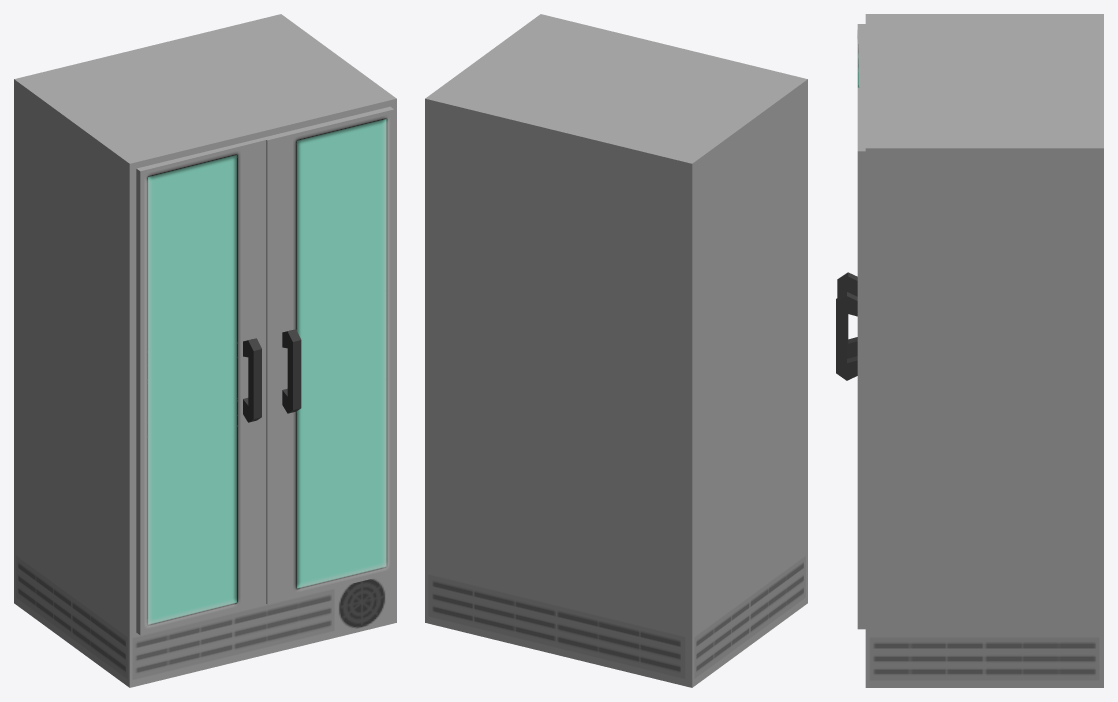
Rendered from Fridge_Close.fbx.
3 renders of one model, left to right at view 1: azimuth 30°, elevation 25°; view 2: azimuth 150°, elevation 25°; view 3: azimuth 270°, elevation 25°, orthographic. The views are drawn at different scales.
Parts seen in each view (by area): view 1: Box037; view 2: Box037; view 3: Box037.
Part boxes in pixels (x1=…): Box037: x1=14, y1=14, x2=396, y2=687; Box037: x1=425, y1=14, x2=807, y2=687; Box037: x1=836, y1=14, x2=1103, y2=687.
Size of the model in its own units: 80 by 150 by 67.43.
